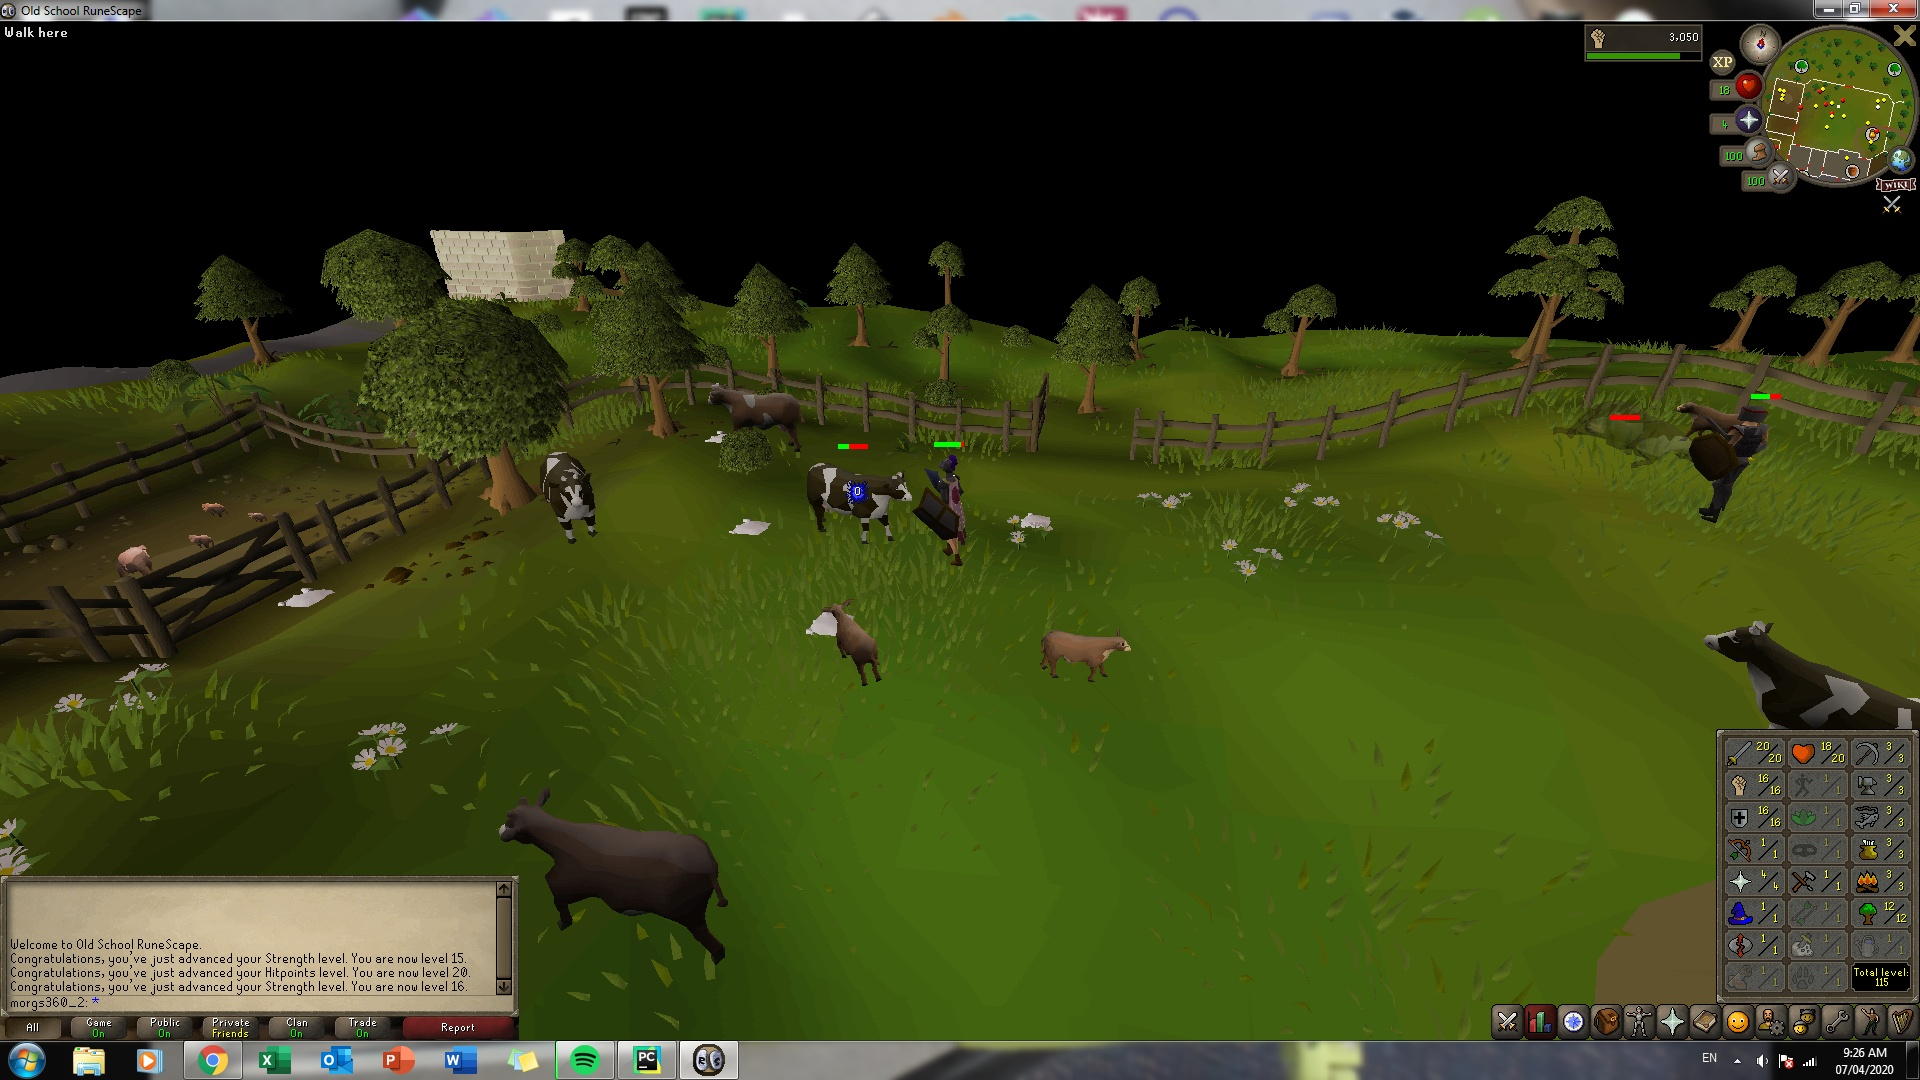cow: (520, 789, 727, 967), (1702, 608, 1913, 732), (799, 460, 916, 545), (703, 378, 812, 456), (530, 446, 609, 550), (1040, 618, 1134, 688), (822, 597, 887, 688), (1677, 396, 1733, 435)
